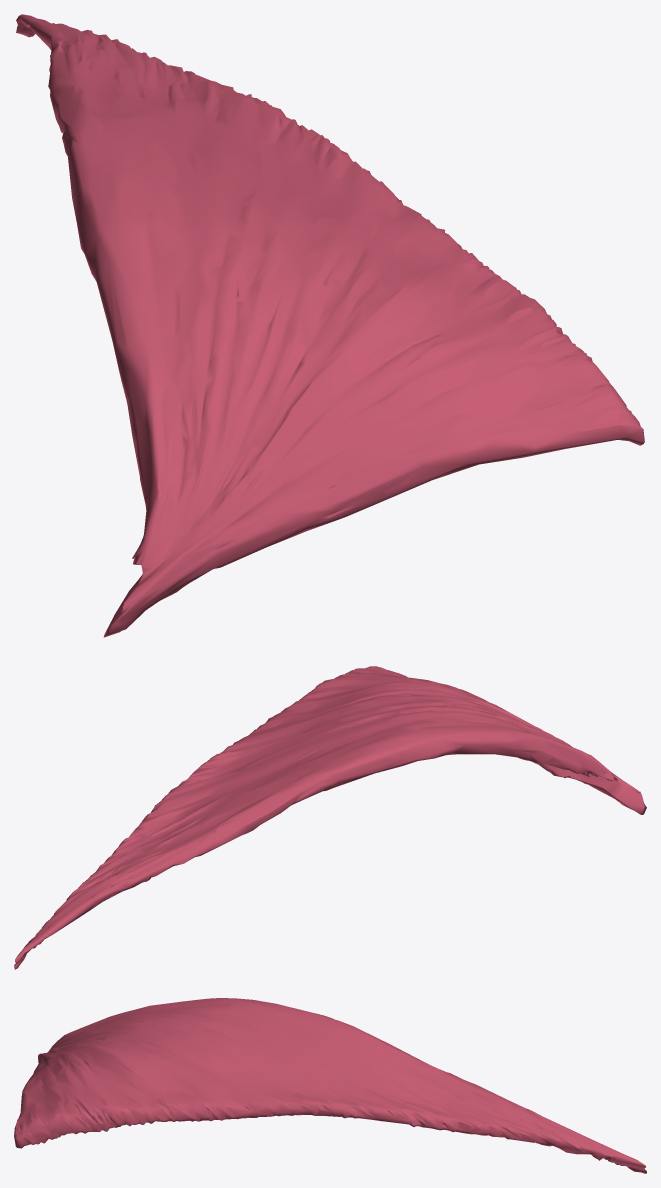
3 views of the same model, one above another, from view 1: azimuth 30°, elevation 25°; view 2: azimuth 150°, elevation 25°; view 3: azimuth 270°, elevation 25° (orthographic). The views are drawn at different scales.
Visible parts, largest first — view 1: 右侧斜方肌降部; view 2: 右侧斜方肌降部; view 3: 右侧斜方肌降部.
Part boxes in pixels (x1,y1,x2,y2): 右侧斜方肌降部: (16, 14, 644, 637); 右侧斜方肌降部: (14, 666, 646, 969); 右侧斜方肌降部: (14, 998, 646, 1173).
Bounding box in the file's own units: 0.2045 × 0.0899 × 0.4335.
